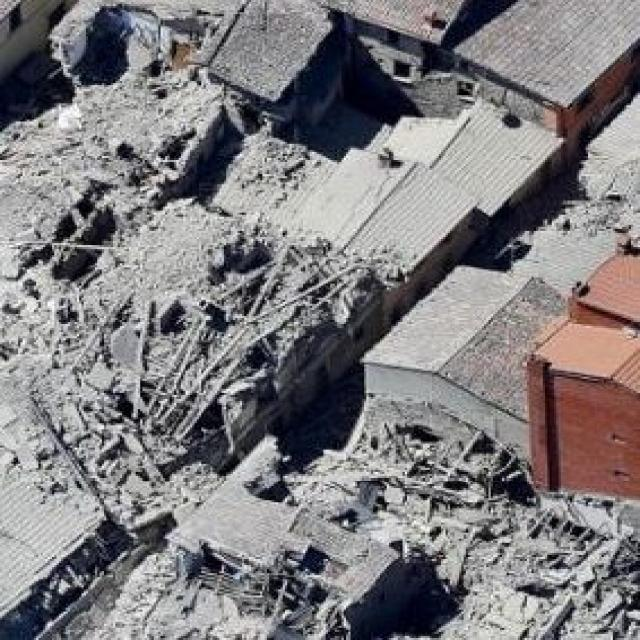collapsed_building: (50, 138, 380, 423), (172, 444, 638, 638), (74, 0, 318, 233), (500, 103, 638, 292)
